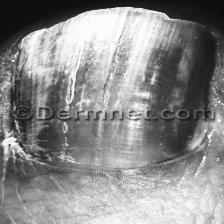Toxin: (8, 7, 211, 173)
